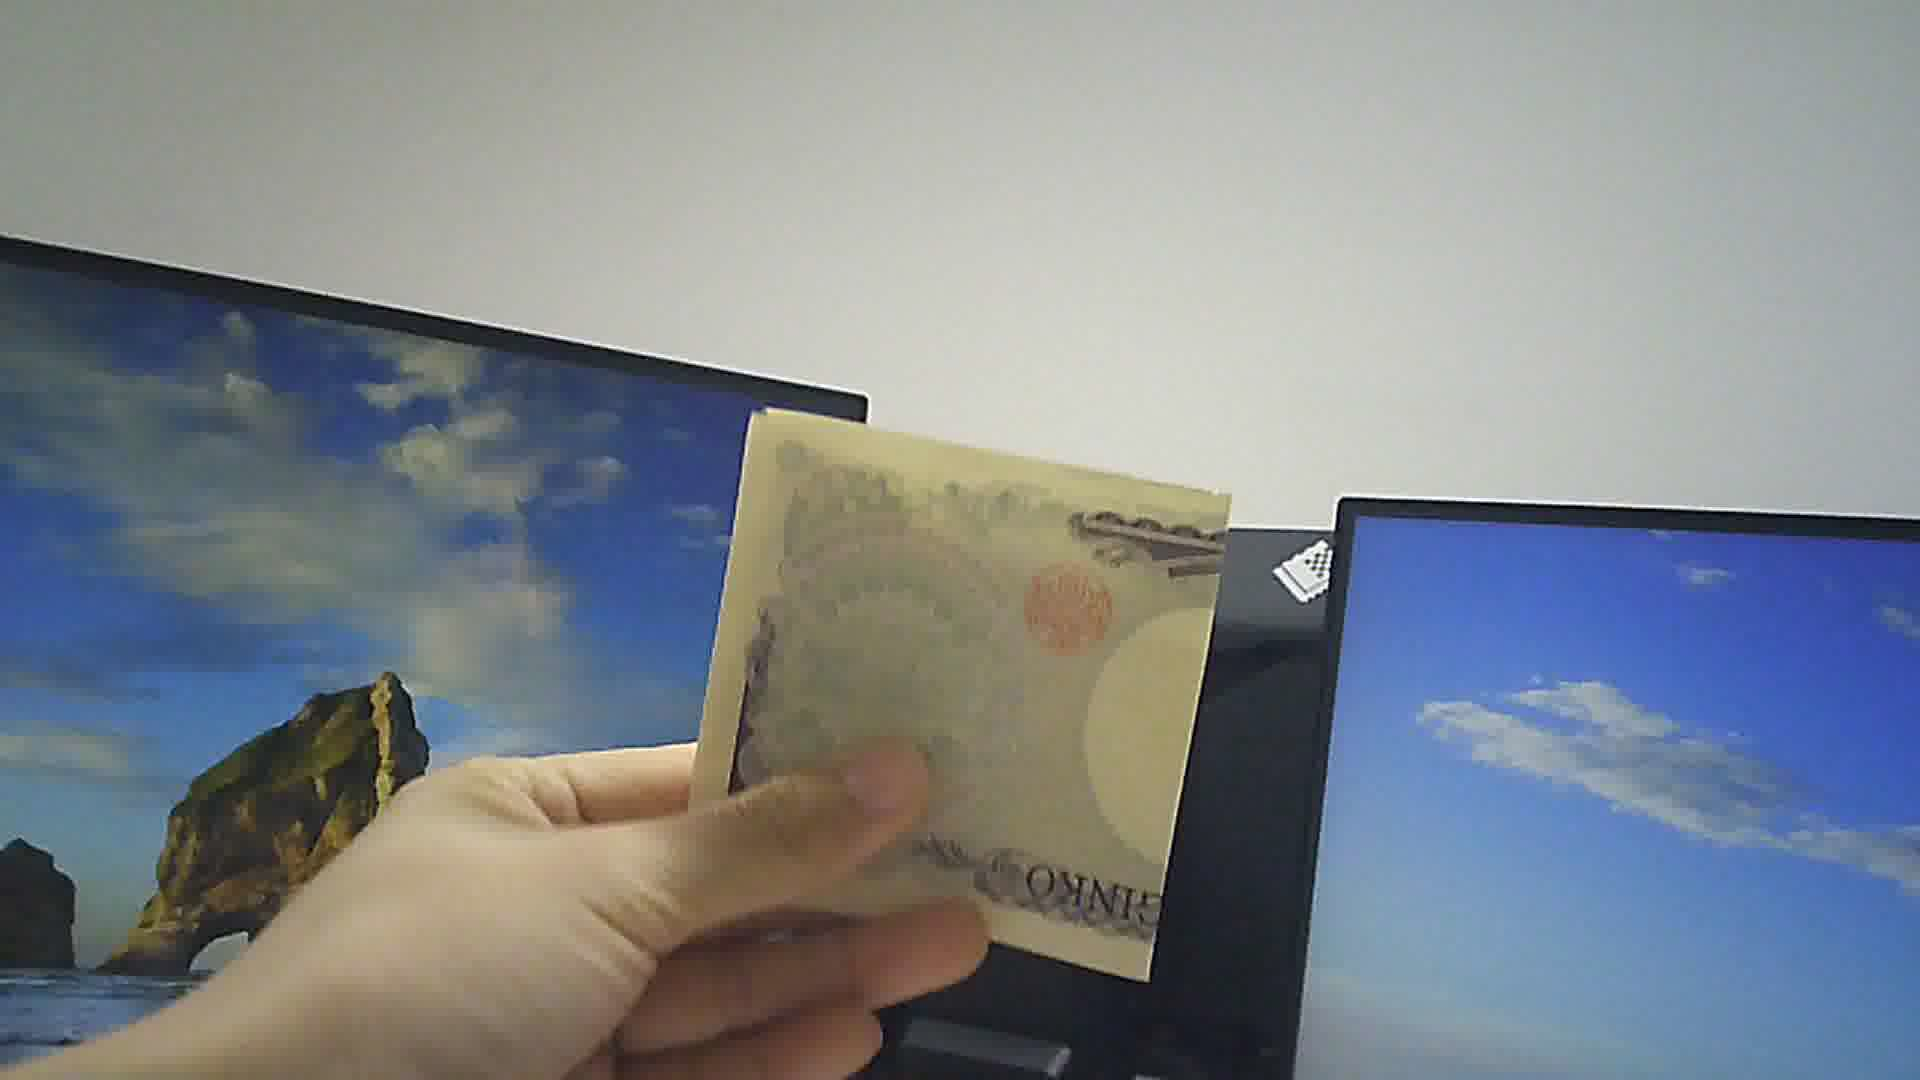5,000 Yen: (679, 400, 1244, 993)
